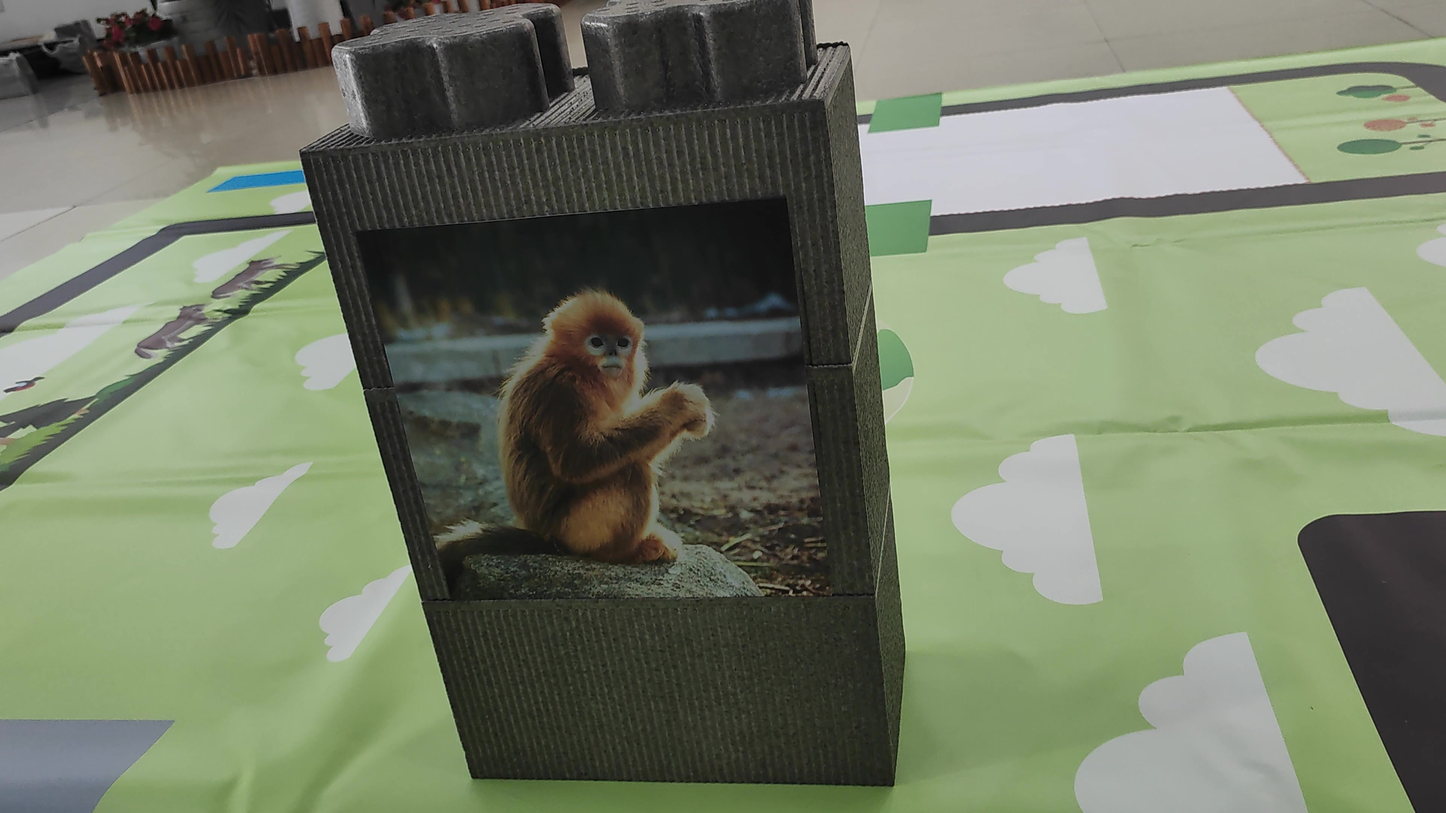monkey: (417, 284, 751, 585)
